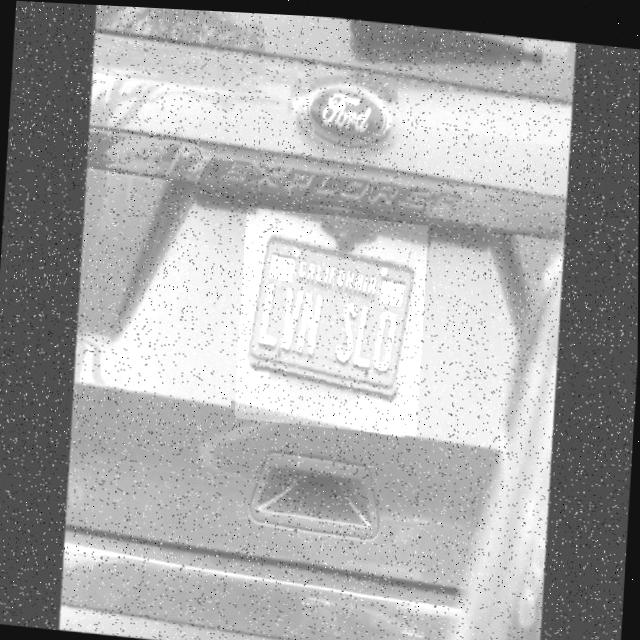LicensePlate: (235, 204, 429, 433)
